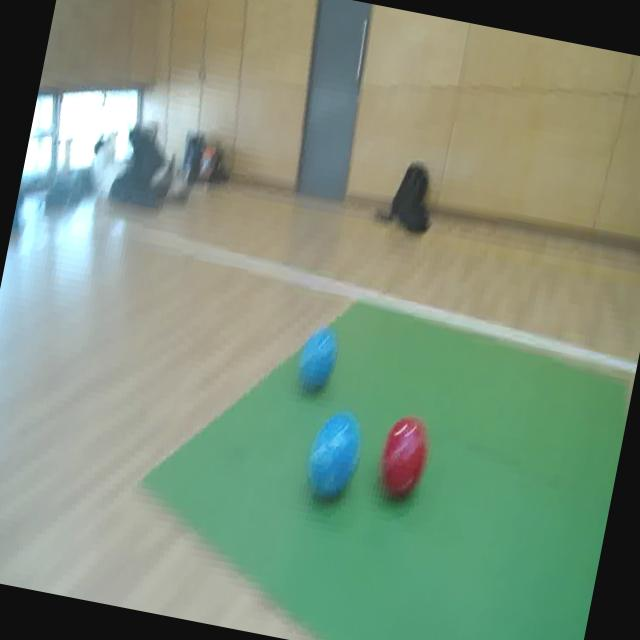blue_ball: (301, 408, 368, 510), (293, 326, 344, 400)
red_ball: (371, 412, 436, 510)
